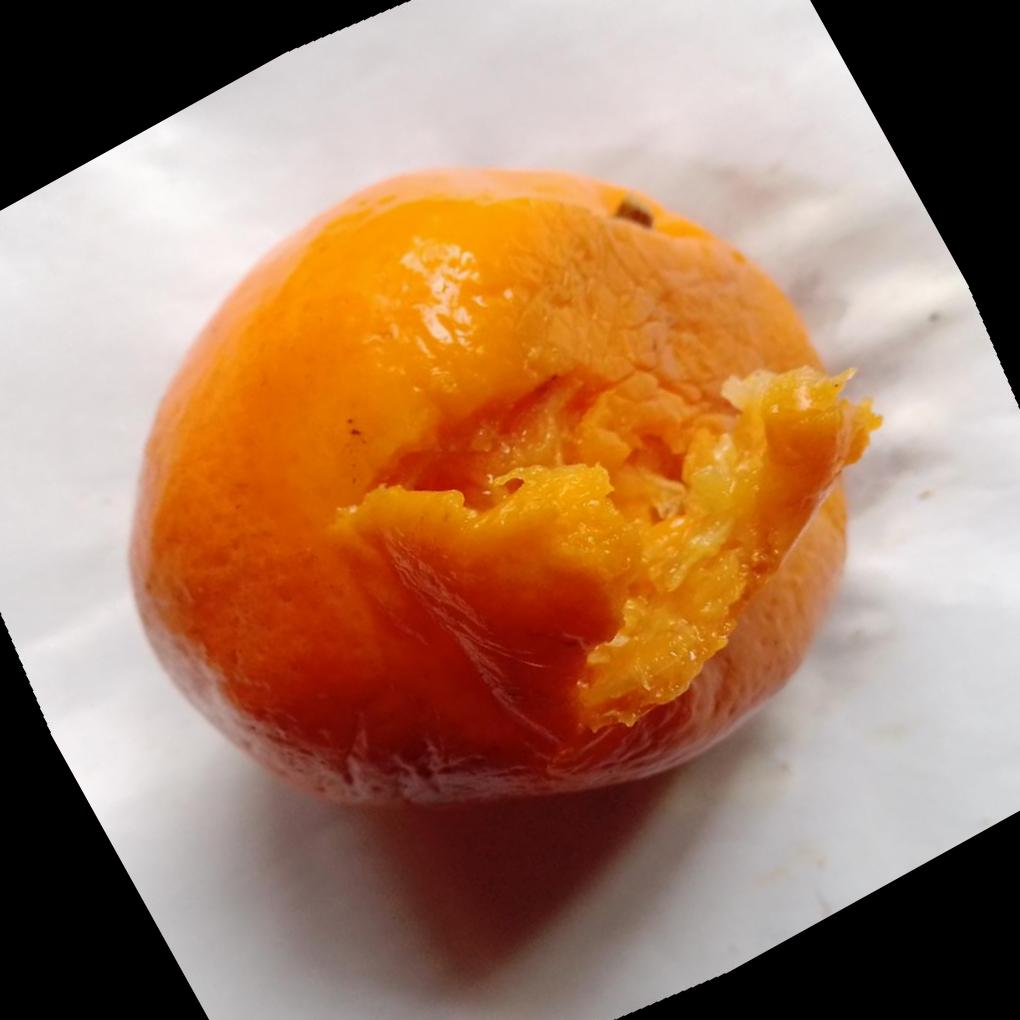FreshOrange: (127, 160, 885, 810)
